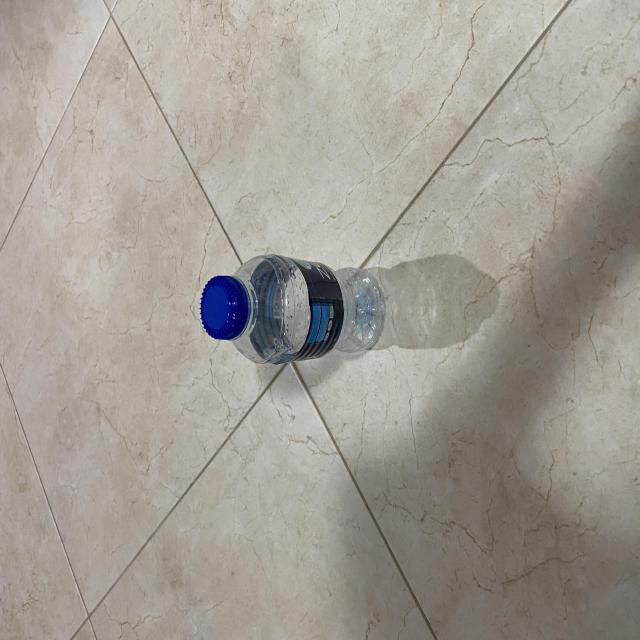plastic: (194, 251, 388, 366)
